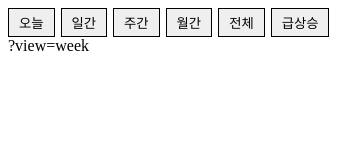
Test case: useView + ViewSelector › 버튼을 누르면 ?view= 가 바뀐다
This screenshot has width=346, height=160.
Click the button "급상승". click: (300, 22)
box: [271,8,330,37]
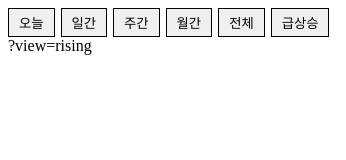
Result: the text with test id "search" reads "?view=rising" at [8,37,92,54]
